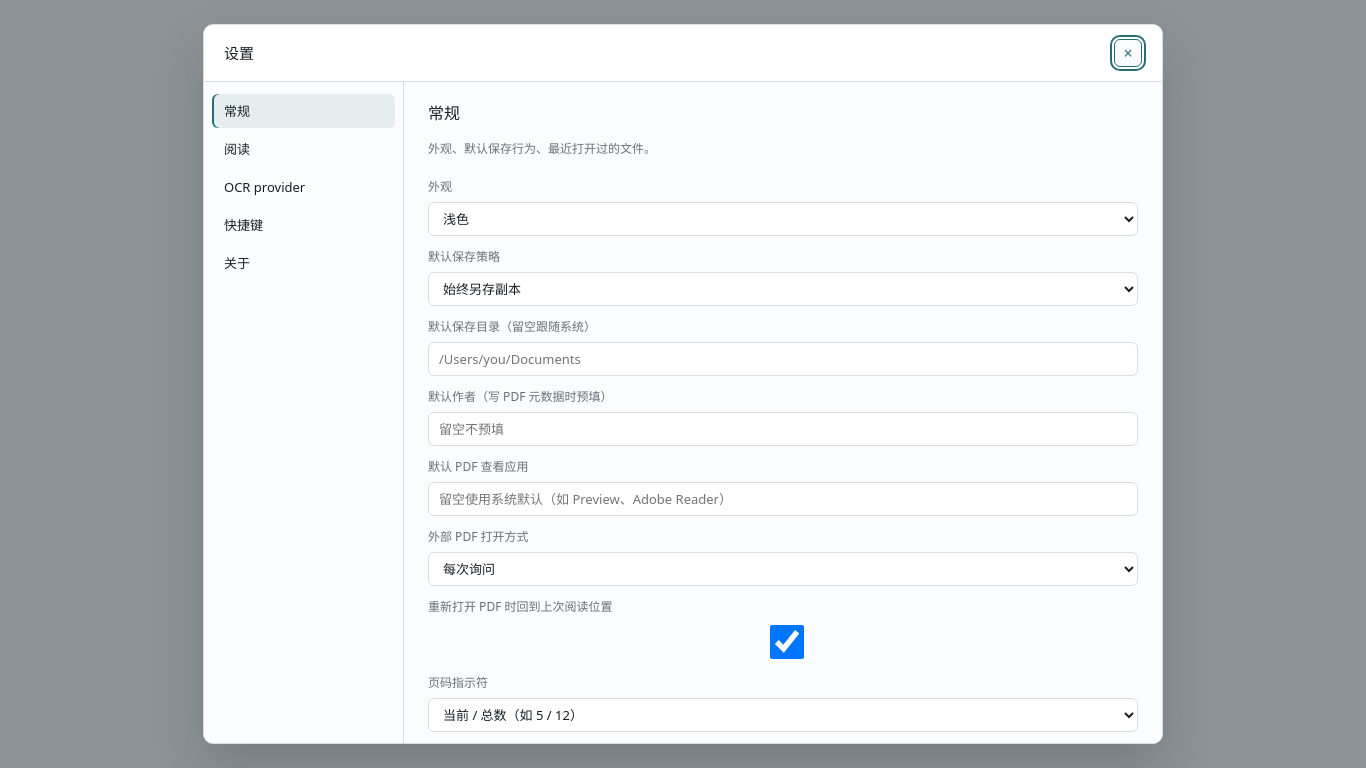
Test: SettingsPanel › lazy OCR section loads on demand
What coordinates should you click on to do the following:
click the tab "OCR provider"
I would click on:
 (304, 187)
Its box is left=212, top=170, right=395, bottom=204.
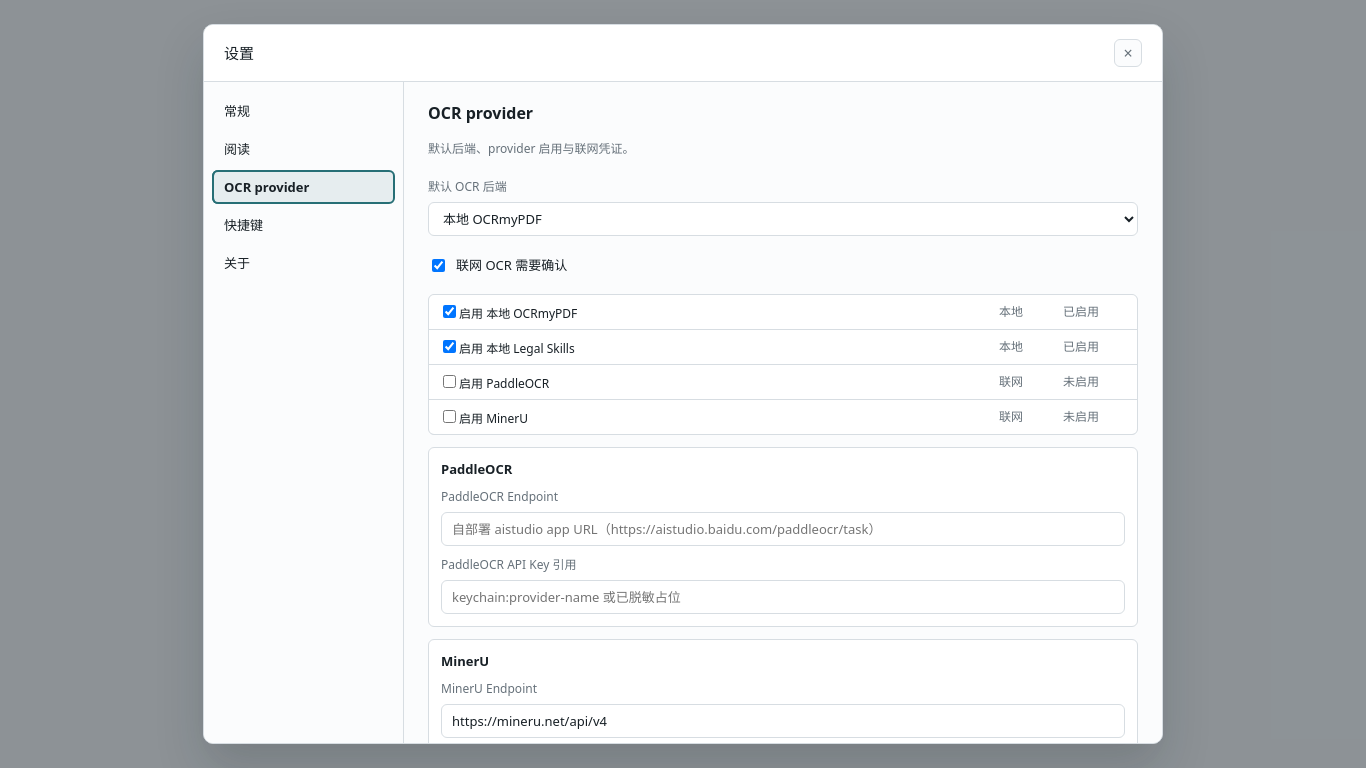
Check: the panel "OCR provider" is shown, box left=404, top=82, right=1162, bottom=743
